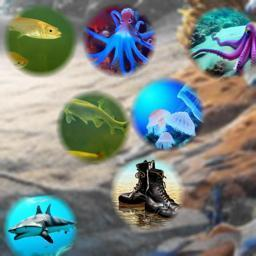not an animal: (118, 160, 182, 221)
